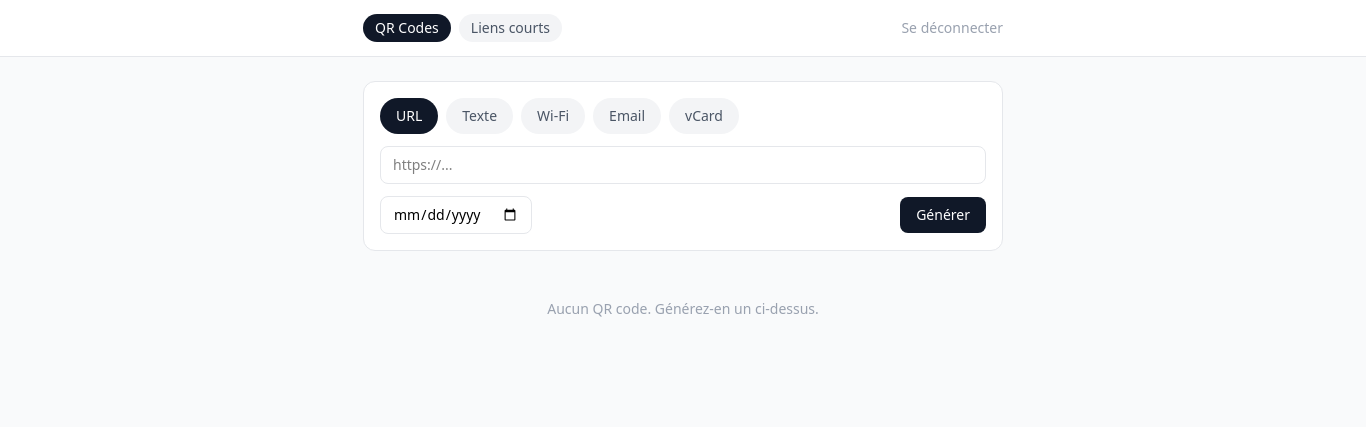
Scenario: CreateForm › should hide password input when security select is set to nopass
The width and height of the screenshot is (1366, 427).
Click the button "Wi-Fi" at point(553, 116), box [521, 98, 585, 134]
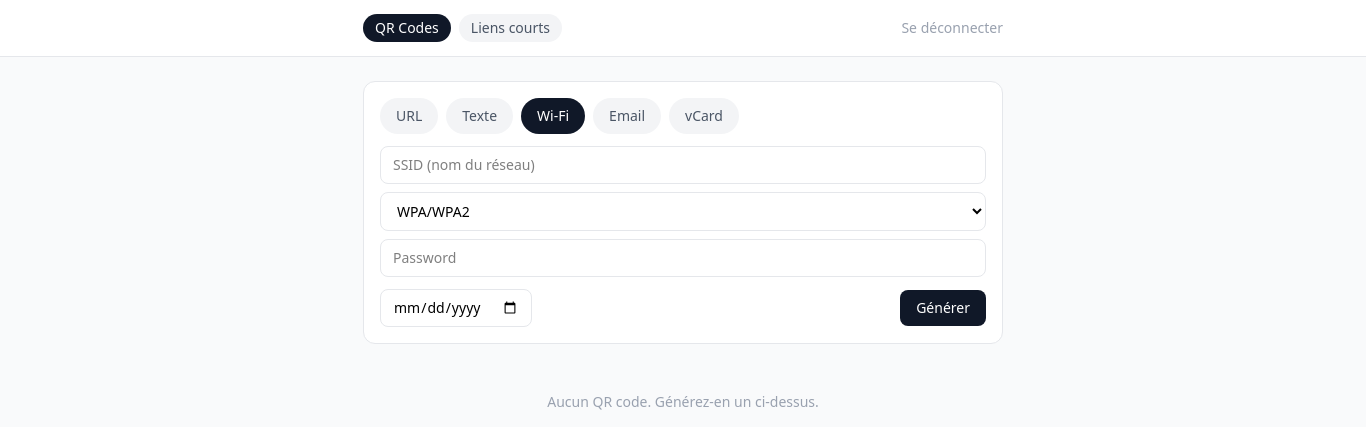
Select "Aucun (ouvert)" in the dropdown at point(683, 212), box [380, 192, 986, 231]
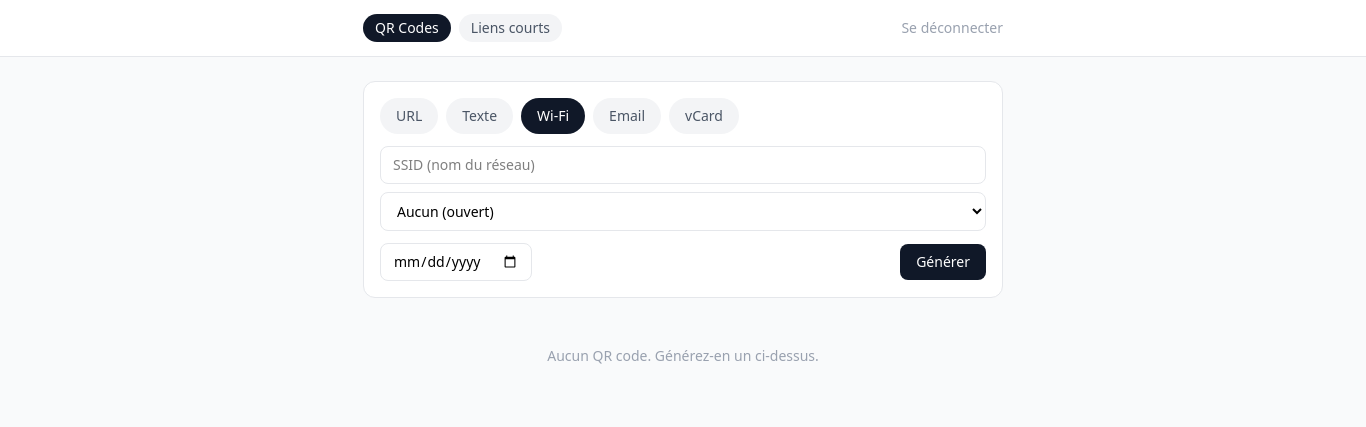
Now the password field with placeholder "password" is gone
